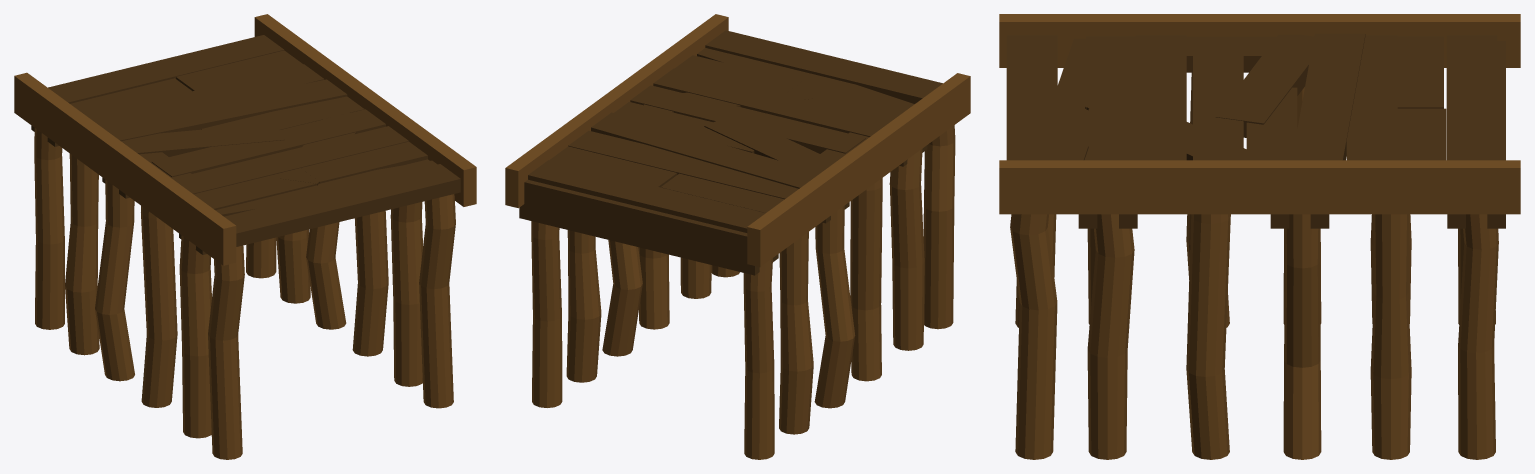
The model's file is dock2.fbx.
The picture shows the model from 3 angles, left to right: view 1: azimuth 30°, elevation 25°; view 2: azimuth 150°, elevation 25°; view 3: azimuth 270°, elevation 25°; orthographic projection. The views are drawn at different scales.
Visible parts, largest first — view 1: Dock; view 2: Dock; view 3: Dock.
Part boxes in pixels (x1,y1,x2,y2): Dock: (14,14,476,459); Dock: (505,14,970,459); Dock: (999,14,1520,459).
Size of the model in its own units: 413 by 366 by 579.
